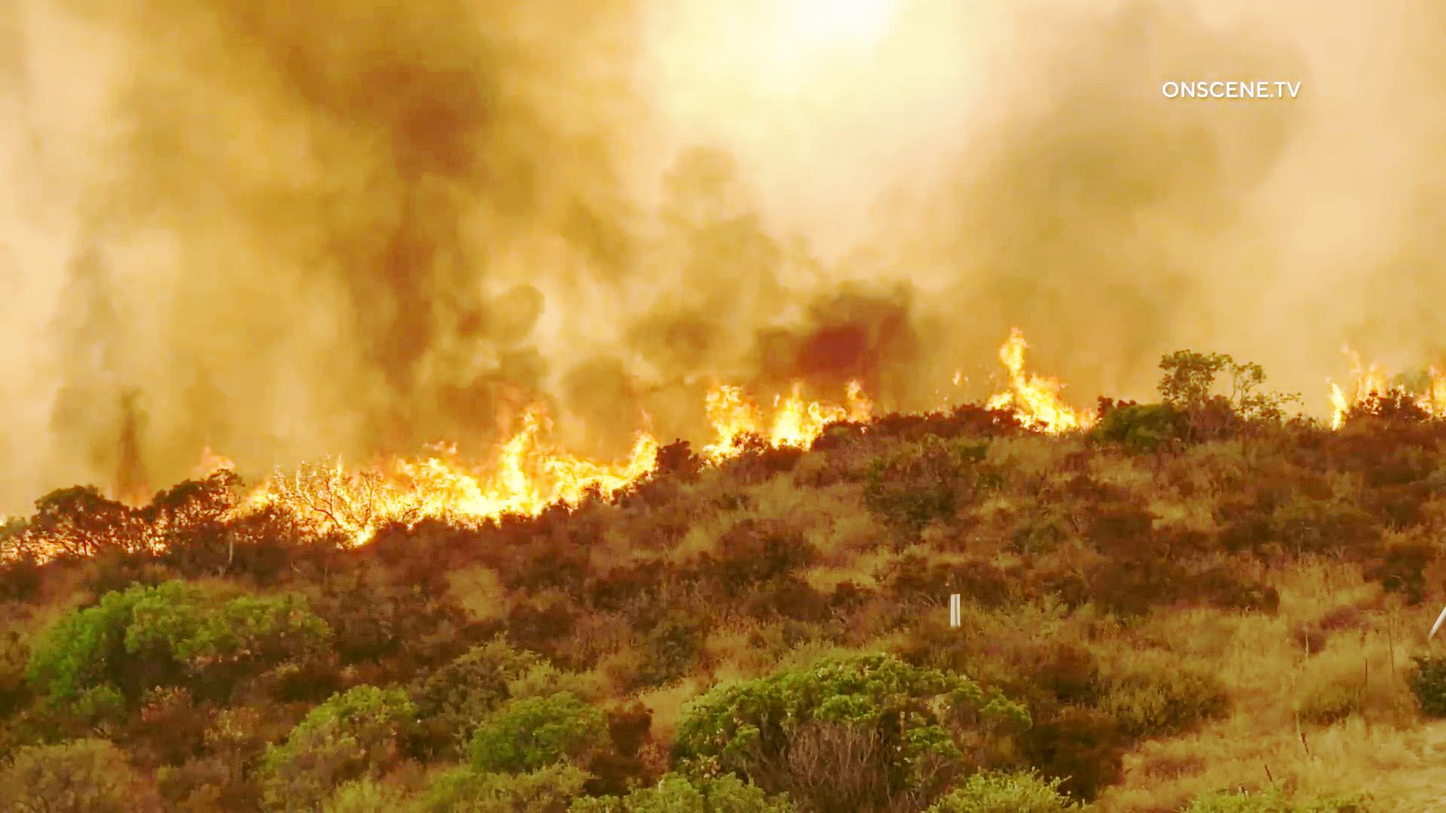fire: (209, 390, 639, 553), (688, 358, 914, 461), (981, 309, 1087, 437)
smoke: (130, 47, 910, 360)
